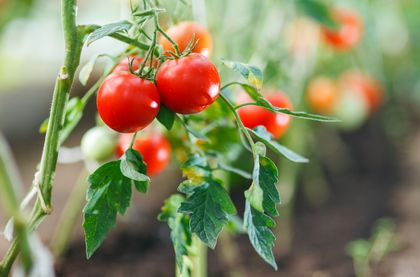tomato: (156, 45, 217, 137)
